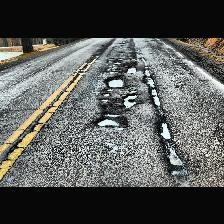pothole: (164, 143, 182, 165), (121, 93, 137, 107), (105, 74, 123, 86), (159, 122, 171, 138), (143, 74, 155, 86), (95, 118, 117, 124), (152, 94, 160, 104), (126, 66, 136, 72), (104, 112, 119, 116), (102, 91, 110, 95), (114, 61, 120, 64), (100, 98, 108, 100), (107, 88, 113, 90)
